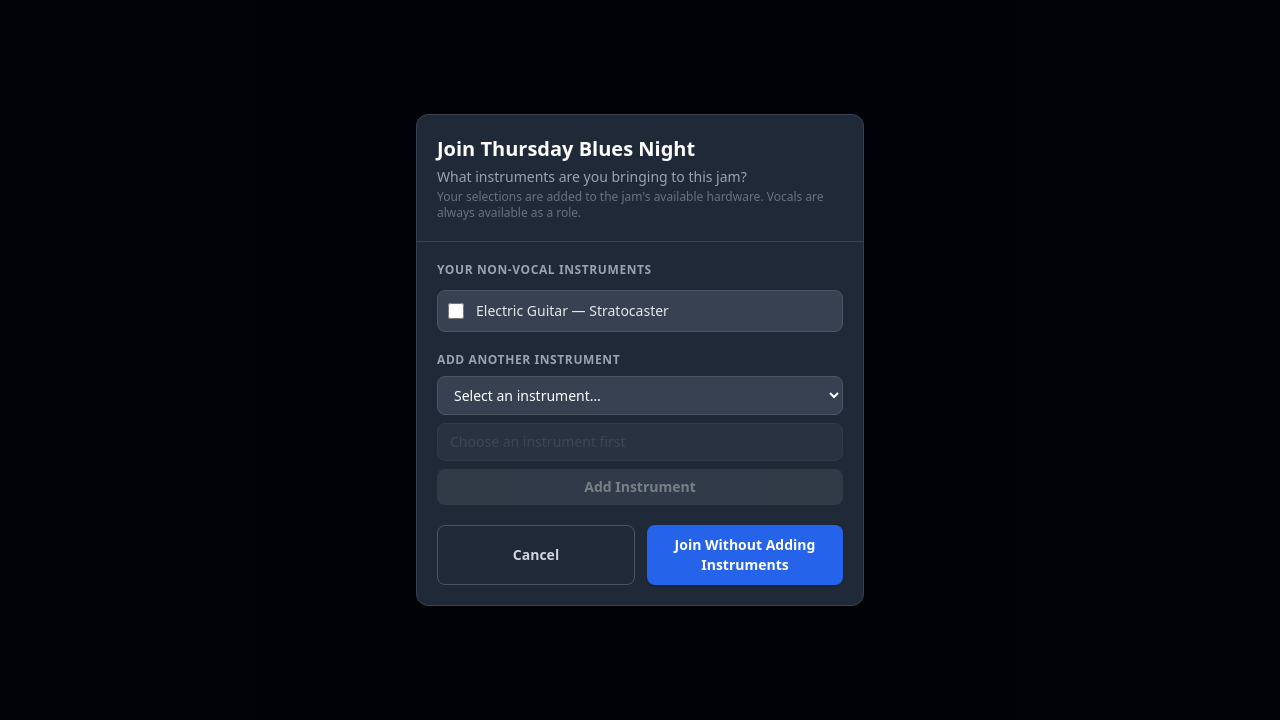
Scenario: JoinJamModal › adds an instrument through the dropdown picker
Select "Drums" in the dropdown named "additional hardware instrument": (640, 396) left=437, top=376, right=843, bottom=415
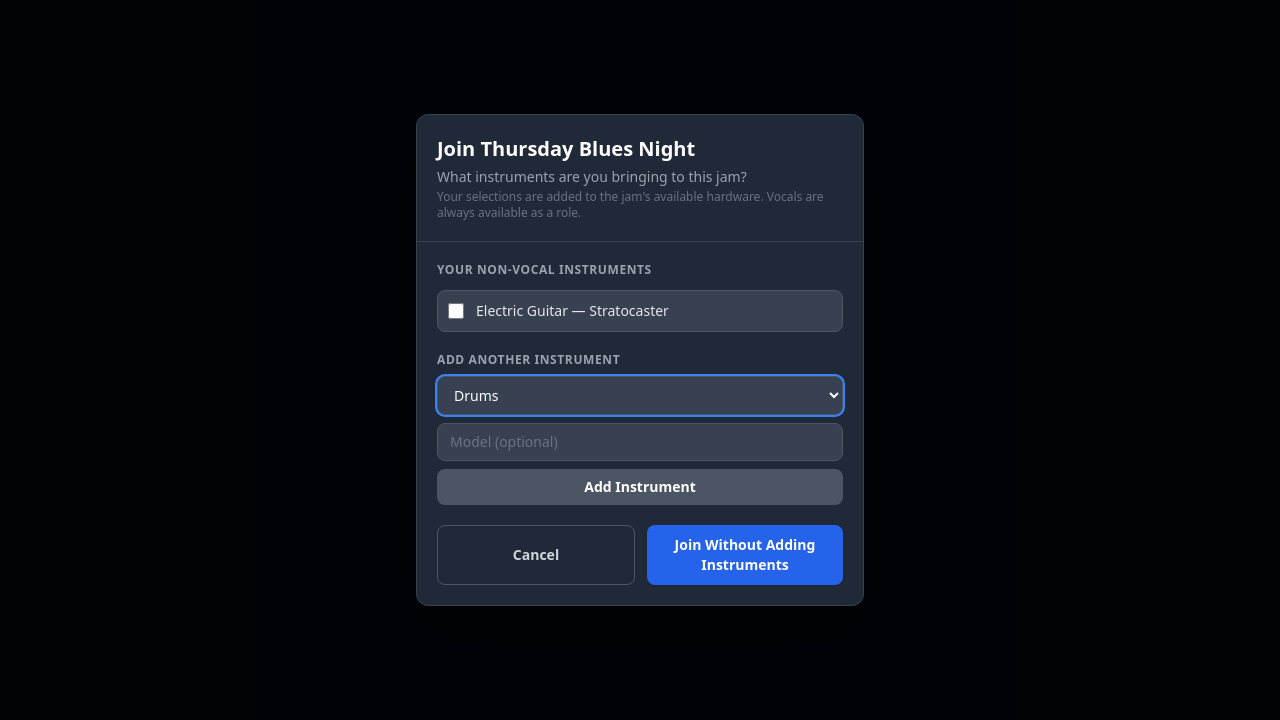
Click the button "Add Instrument": (640, 487) left=437, top=469, right=843, bottom=505
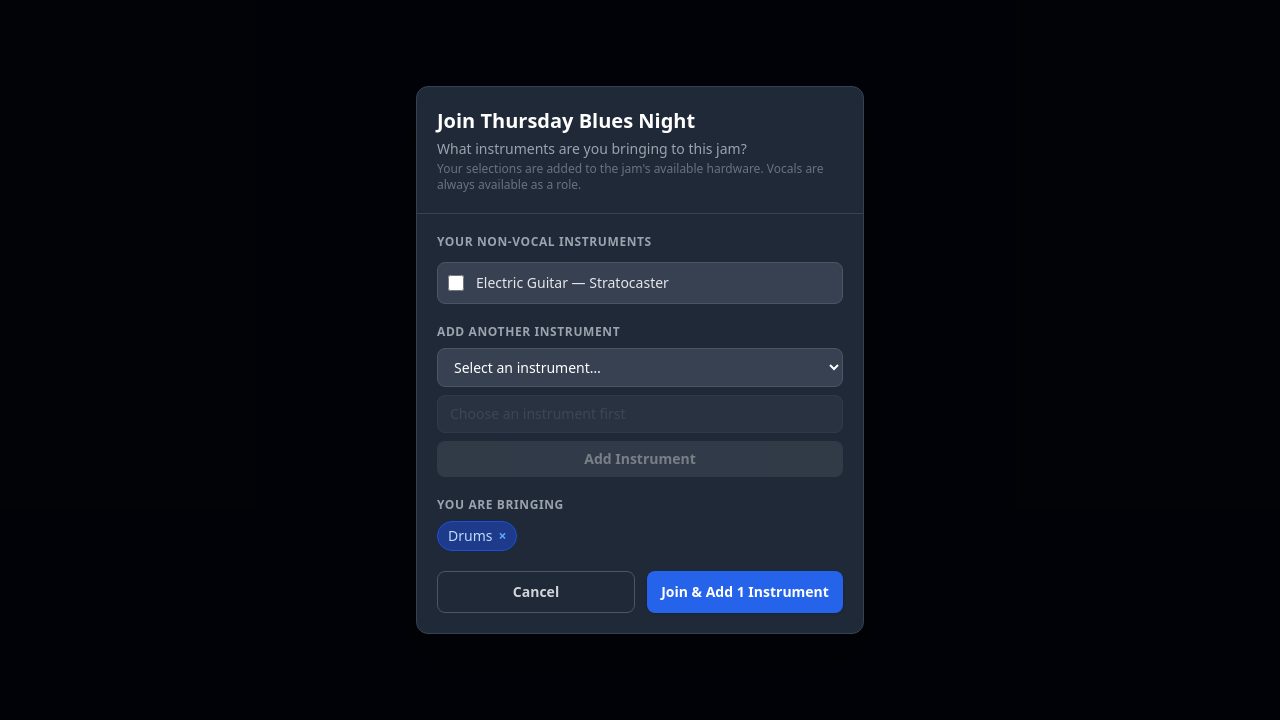
Result: the button "Join & Add 1 Instrument" is shown at left=647, top=571, right=843, bottom=613
